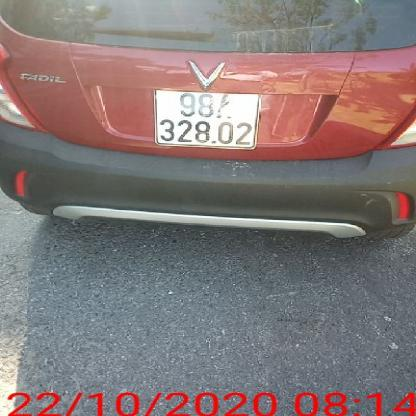biensoxe: (153, 86, 260, 157)
